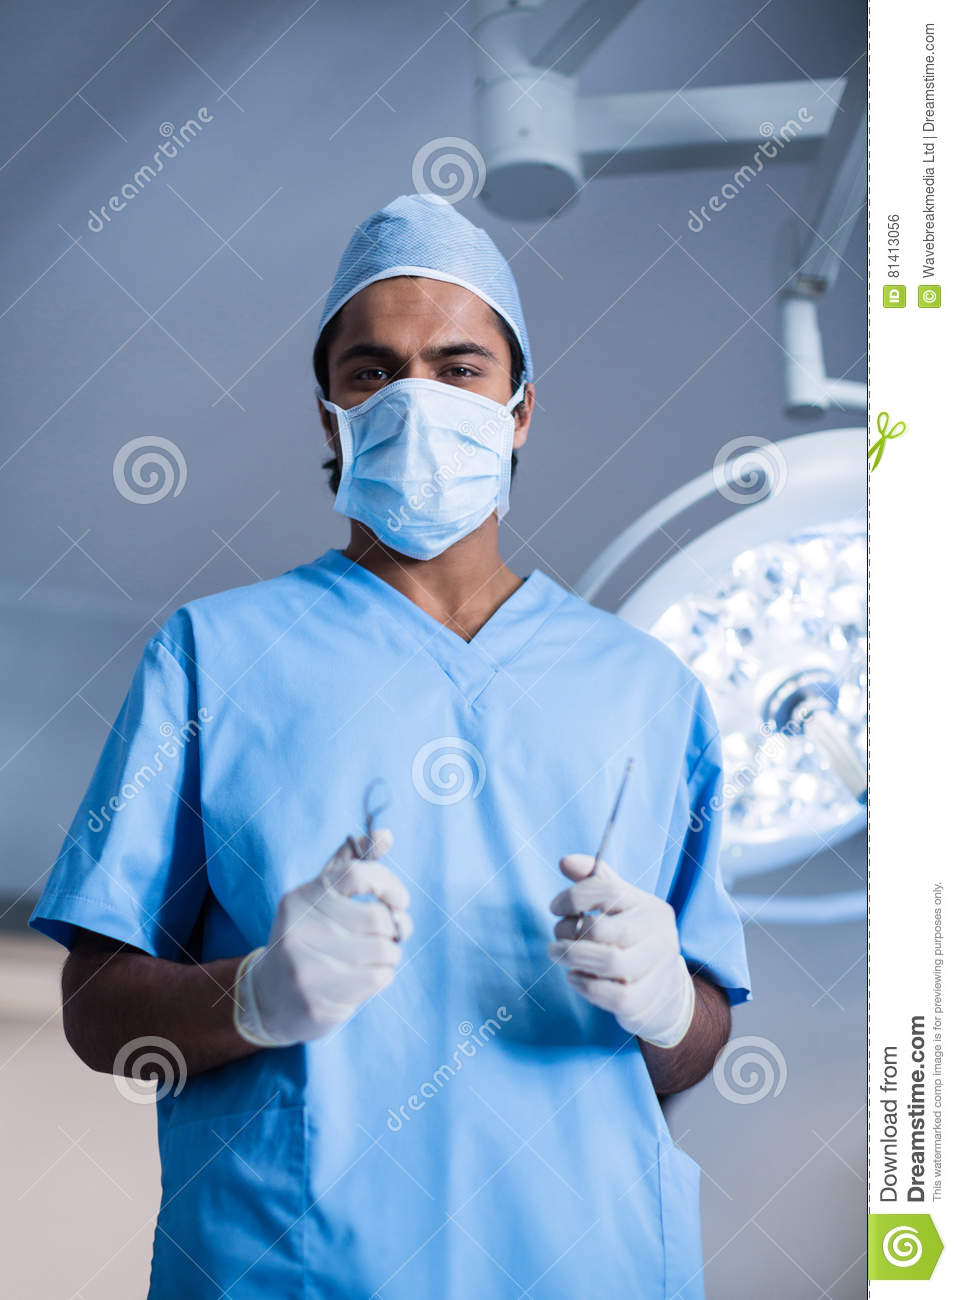mask: (336, 375, 524, 549)
